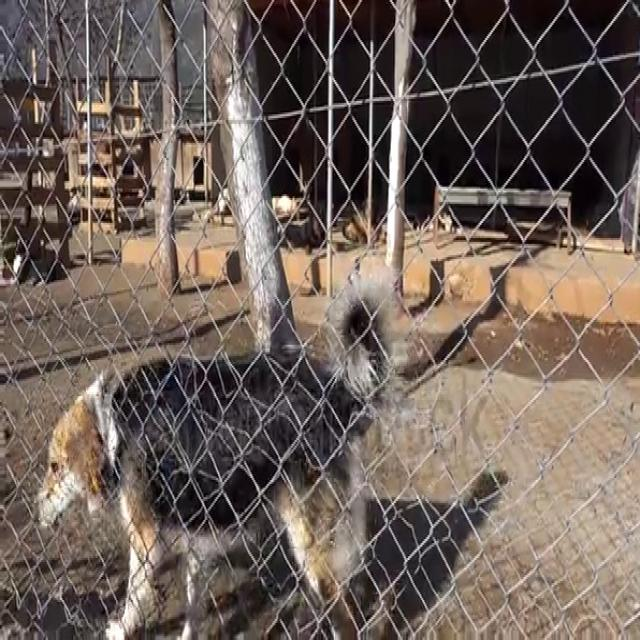normal_animals: (26, 332, 418, 636)
